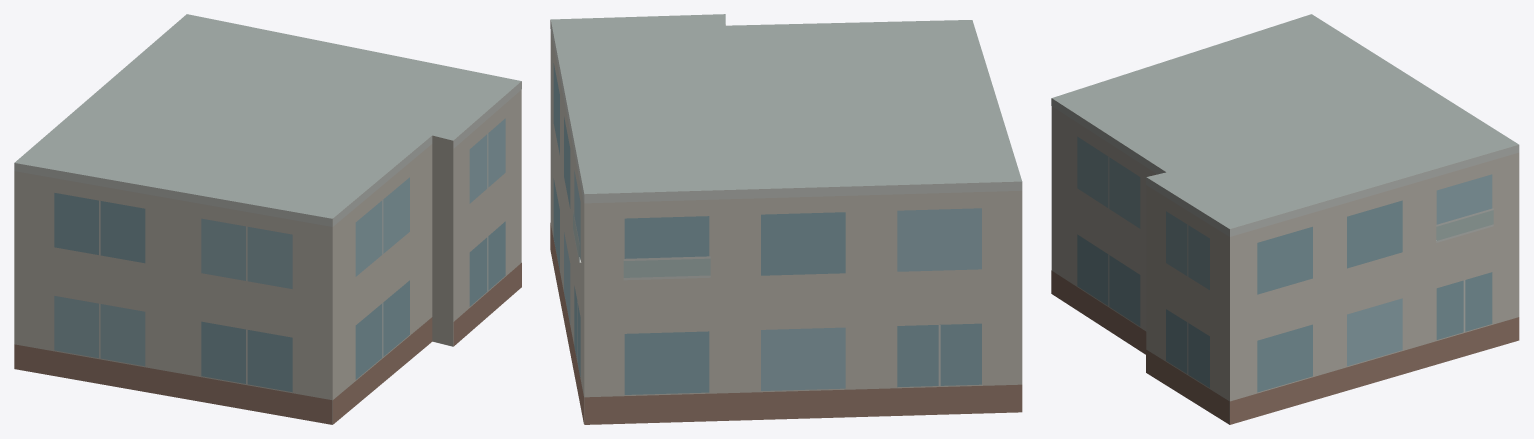
The model's file is survey-upis-32763307.glb.
3 renders of one model, left to right at view 1: azimuth 30°, elevation 25°; view 2: azimuth 150°, elevation 25°; view 3: azimuth 270°, elevation 25°, orthographic. The views are drawn at different scales.
Visible parts, largest first — view 1: survey-upis-32763307.tmp; view 2: survey-upis-32763307.tmp; view 3: survey-upis-32763307.tmp.
Part boxes in pixels (<box>): survey-upis-32763307.tmp: <box>14,14,521,424</box>; survey-upis-32763307.tmp: <box>550,14,1022,424</box>; survey-upis-32763307.tmp: <box>1051,14,1519,424</box>.
Bounding box in the file's own units: 14.39 × 6.1 × 13.22.
